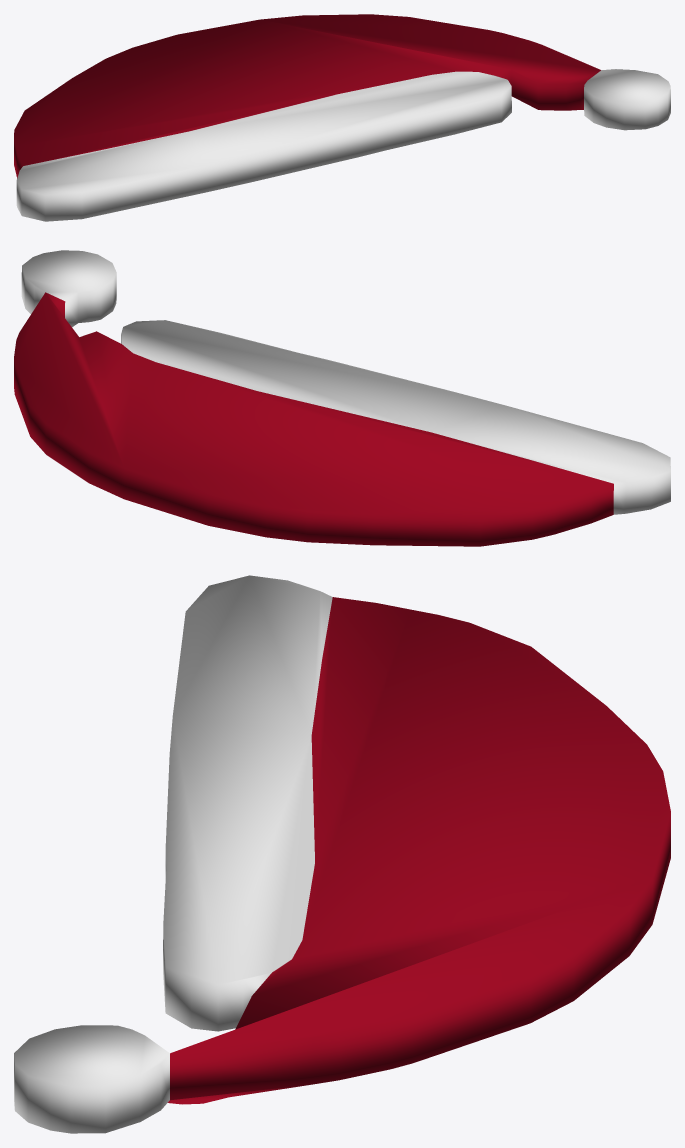
Rendered from christmas_hat.glb.
3 views of the same model, one above another, from view 1: azimuth 30°, elevation 25°; view 2: azimuth 150°, elevation 25°; view 3: azimuth 270°, elevation 25° (orthographic). The views are drawn at different scales.
Visible parts, largest first — view 1: Circle.023; view 2: Circle.023; view 3: Circle.023.
Boxes of the visible parts, <box> form: Circle.023: <box>14,14,670,221</box>; Circle.023: <box>14,250,670,546</box>; Circle.023: <box>14,575,670,1133</box>.
Bounding box in the file's own units: 2.25 × 0.1484 × 1.22.
